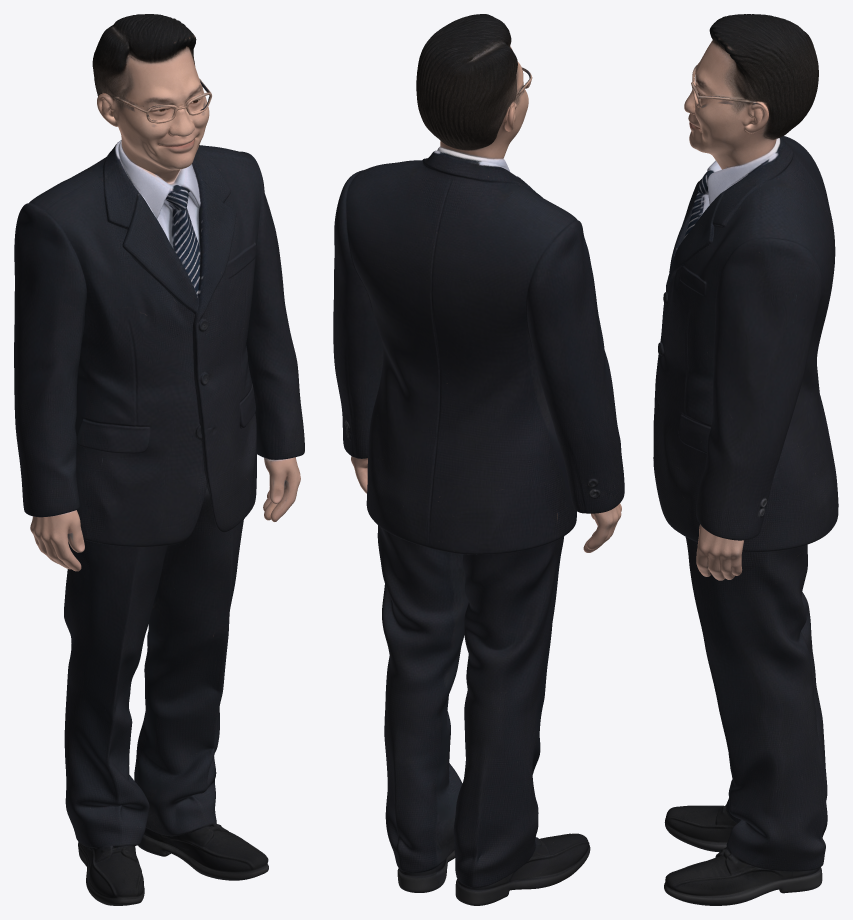
Rendered from 蔡昇宗副院長.glb.
3 renders of one model, left to right at view 1: azimuth 30°, elevation 25°; view 2: azimuth 150°, elevation 25°; view 3: azimuth 270°, elevation 25°, orthographic.
Size of the model in its own units: 0.636 by 1.9 by 0.3739.
Materials: 1 (1 with a texture image).
